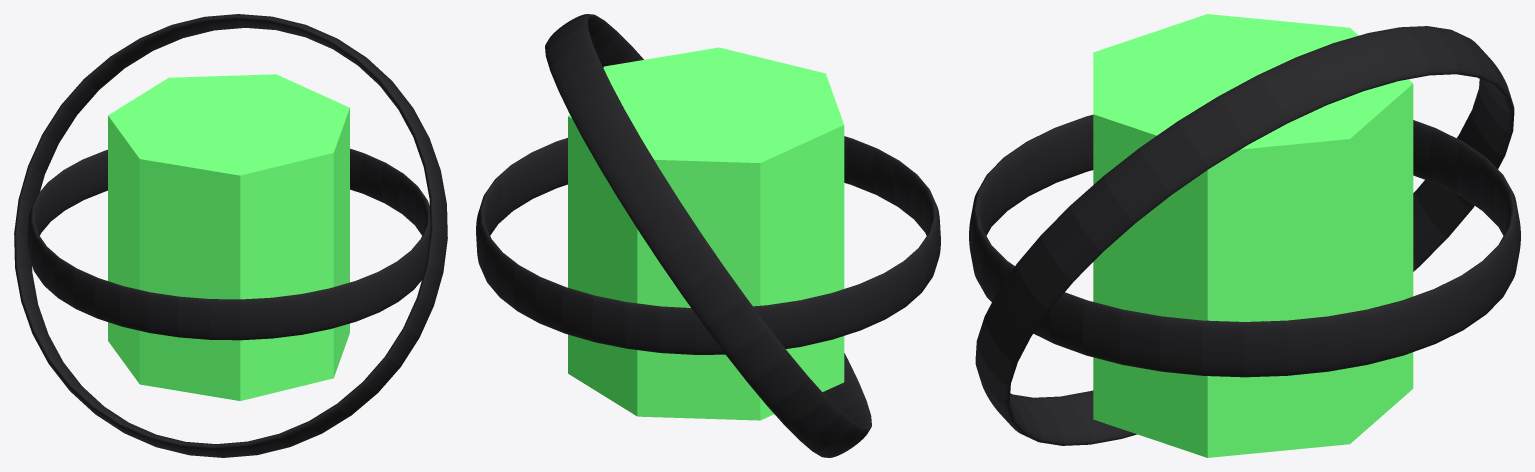
File: enemy2.fbx
3 views of the same model, side by side, from view 1: azimuth 30°, elevation 25°; view 2: azimuth 150°, elevation 25°; view 3: azimuth 270°, elevation 25° (orthographic). The views are drawn at different scales.
Parts seen in each view (by area): view 1: Cylinder, Torus, Torus.001; view 2: Cylinder, Torus.001, Torus; view 3: Cylinder, Torus.001, Torus.
Part boxes in pixels (x1,y1,x2,y2): Cylinder: (108,74,349,400); Torus: (27,148,430,340); Torus.001: (14,14,447,457); Cylinder: (568,47,844,420); Torus.001: (545,14,871,457); Torus: (476,136,940,354); Cylinder: (1093,14,1413,457); Torus.001: (975,26,1514,445); Torus: (969,115,1520,377).
Size of the model in its own units: 477 by 456 by 476.
